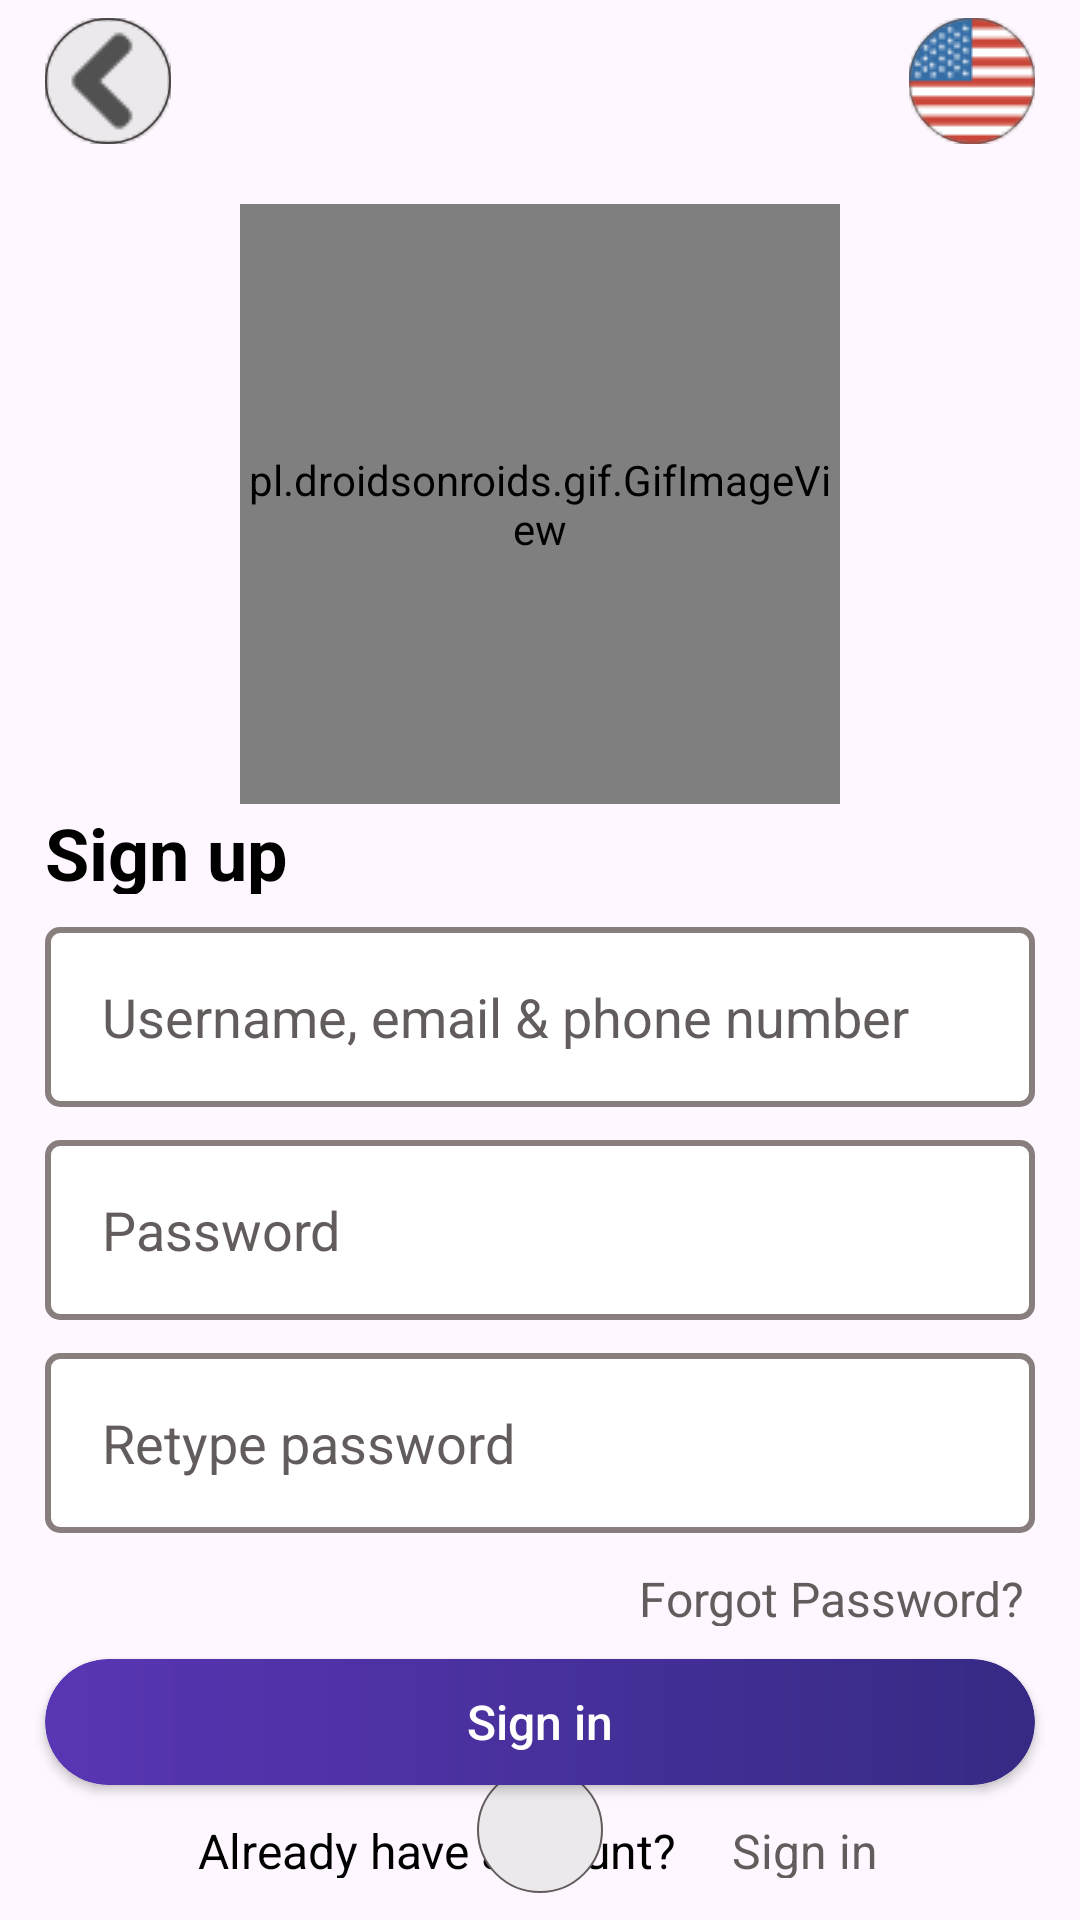

Icon bounding boxes for this 1080w x 1920h phone screenshot, format (x1, y1, x2, y2):
back arrow: (45, 18, 171, 144)
